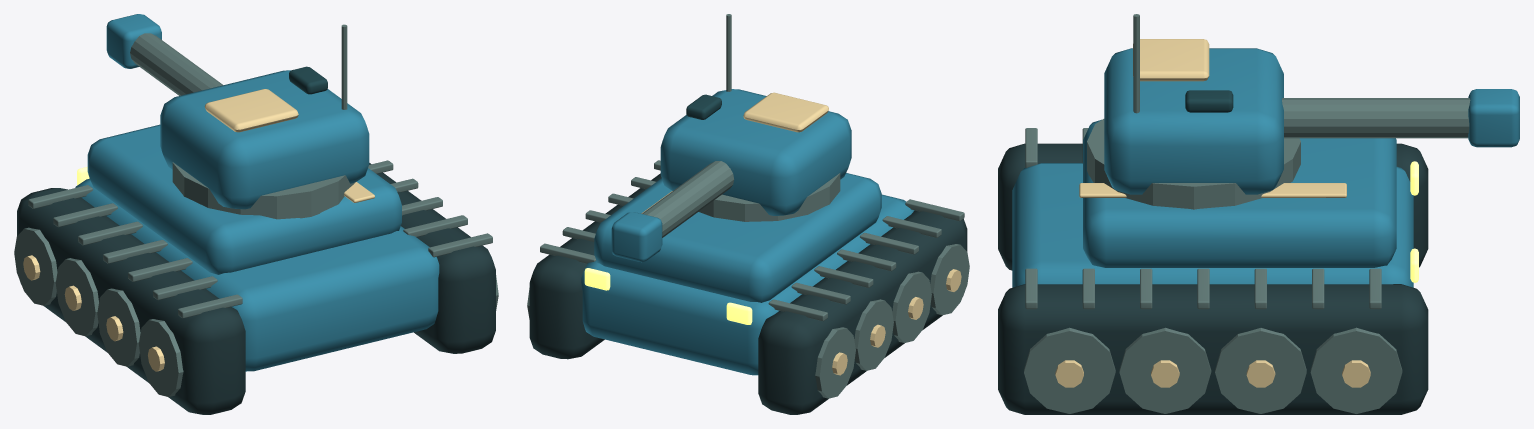
File: tank.glb
3 renders of one model, left to right at view 1: azimuth 30°, elevation 25°; view 2: azimuth 150°, elevation 25°; view 3: azimuth 270°, elevation 25°, orthographic. The views are drawn at different scales.
Parts seen in each view (by area): view 1: Part__Hull enamel, Part__Track rubber, Part_Turret_Hull enamel, Part__Brushed steel, Part_Turret_Brushed steel, Hatch, Part__Ivory markings, Sensor; view 2: Part__Hull enamel, Part__Track rubber, Part_Turret_Hull enamel, Part__Brushed steel, Part_Turret_Brushed steel, Hatch, Part__Ivory markings, Part__Amber lamps, Sensor; view 3: Part__Hull enamel, Part__Track rubber, Part__Brushed steel, Part_Turret_Hull enamel, Part_Turret_Brushed steel, Part__Ivory markings, Hatch, Sensor, Part__Amber lamps.
Boxes of the visible parts, bbox=[...] form: Part__Hull enamel: bbox=[75, 124, 439, 371]; Part__Track rubber: bbox=[17, 163, 495, 414]; Part_Turret_Hull enamel: bbox=[106, 14, 369, 209]; Part__Brushed steel: bbox=[14, 160, 498, 396]; Part_Turret_Brushed steel: bbox=[130, 24, 354, 219]; Hatch: bbox=[204, 89, 298, 132]; Part__Ivory markings: bbox=[23, 182, 374, 371]; Sensor: bbox=[289, 66, 327, 94]; Part__Hull enamel: bbox=[581, 173, 914, 375]; Part__Track rubber: bbox=[529, 173, 967, 414]; Part_Turret_Hull enamel: bbox=[611, 89, 851, 262]; Part__Brushed steel: bbox=[527, 160, 969, 398]; Part_Turret_Brushed steel: bbox=[642, 14, 840, 237]; Hatch: bbox=[743, 92, 828, 132]; Part__Ivory markings: bbox=[641, 191, 961, 375]; Part__Amber lamps: bbox=[584, 268, 752, 324]; Sensor: bbox=[686, 94, 721, 119]; Part__Hull enamel: bbox=[1012, 119, 1413, 287]; Part__Track rubber: bbox=[998, 143, 1428, 414]; Part__Brushed steel: bbox=[1024, 128, 1402, 413]; Part_Turret_Hull enamel: bbox=[1104, 48, 1519, 194]; Part_Turret_Brushed steel: bbox=[1087, 14, 1470, 209]; Part__Ivory markings: bbox=[1055, 183, 1370, 387]; Hatch: bbox=[1133, 39, 1209, 81]; Sensor: bbox=[1185, 90, 1233, 112]; Part__Amber lamps: bbox=[1410, 161, 1418, 282].
Bounding box in the file's own units: 2.29 × 2.04 × 2.73.
